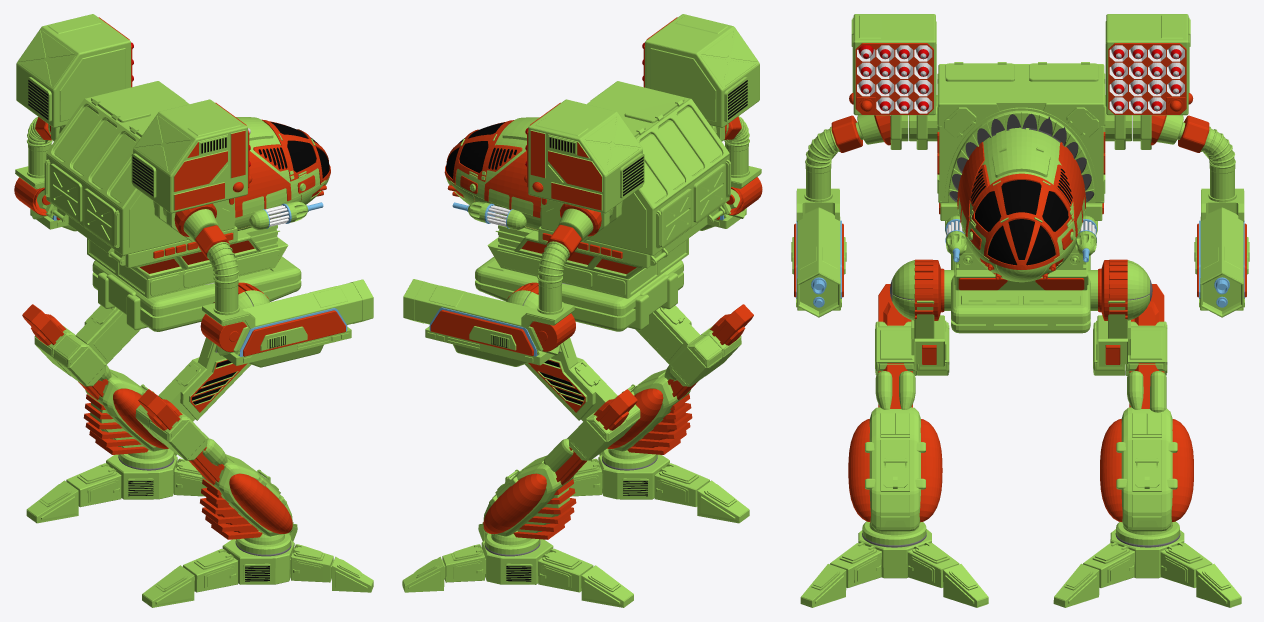
The model's file is madcad.fbx.
3 renders of one model, left to right at view 1: azimuth 30°, elevation 25°; view 2: azimuth 150°, elevation 25°; view 3: azimuth 270°, elevation 25°, orthographic. The views are drawn at different scales.
Parts seen in each view (by area): view 1: SPHERE_9-1, SOLID_19, CUBE_118, SOLID_17, TS_526, SOLID_36, SPHERE_15, TS_512, TS_527, SPHERE_19, SOLID_21, SOLID_17-2 (+19 smaller); view 2: SPHERE_9-1, SOLID_17, TS_512, SOLID_19, TS_527, SPHERE_19, SOLID_36, CUBE_118, TS_526, SPHERE_15, SOLID_29, SOLID_19-2 (+18 smaller); view 3: SPHERE_9-1, TS_512, CUBE_118, SPHERE_19, SPHERE_15, SOLID_36, TS_527, TS_526, SOLID_29, SOLID_21, SOLID_19, SOLID_17 (+16 smaller).
Boxes of the visible parts, x1,y1,x2,y2 form: SPHERE_9-1: [44, 81, 330, 298]; SOLID_19: [16, 14, 130, 127]; CUBE_118: [138, 389, 292, 539]; SOLID_17: [133, 99, 247, 213]; TS_526: [183, 531, 333, 592]; SOLID_36: [92, 256, 301, 331]; SPHERE_15: [135, 282, 269, 460]; TS_512: [22, 304, 168, 454]; TS_527: [66, 448, 206, 507]; SPHERE_19: [34, 305, 140, 386]; SOLID_21: [216, 282, 362, 355]; SOLID_17-2: [174, 130, 245, 210]; SPHERE_9-1: [444, 81, 730, 298]; SOLID_17: [645, 14, 759, 127]; TS_512: [483, 389, 637, 539]; SOLID_19: [528, 99, 642, 213]; TS_527: [442, 531, 593, 592]; SPHERE_19: [506, 282, 640, 460]; SOLID_36: [475, 257, 683, 331]; CUBE_118: [607, 304, 753, 454]; TS_526: [569, 448, 709, 506]; SPHERE_15: [635, 305, 741, 386]; SOLID_29: [414, 282, 559, 355]; SOLID_19-2: [530, 130, 601, 210]; SPHERE_9-1: [937, 62, 1105, 290]; TS_512: [1100, 284, 1193, 531]; CUBE_118: [848, 284, 942, 531]; SPHERE_19: [1088, 259, 1167, 375]; SPHERE_15: [875, 259, 954, 375]; SOLID_36: [951, 255, 1090, 333]; TS_527: [1083, 521, 1212, 587]; TS_526: [830, 521, 959, 587]; SOLID_29: [1200, 207, 1243, 311]; SOLID_21: [797, 207, 840, 311]; SOLID_19: [1105, 14, 1190, 115]; SOLID_17: [851, 14, 936, 115].
Size of the model in its own units: 86.51 by 128 by 158.
